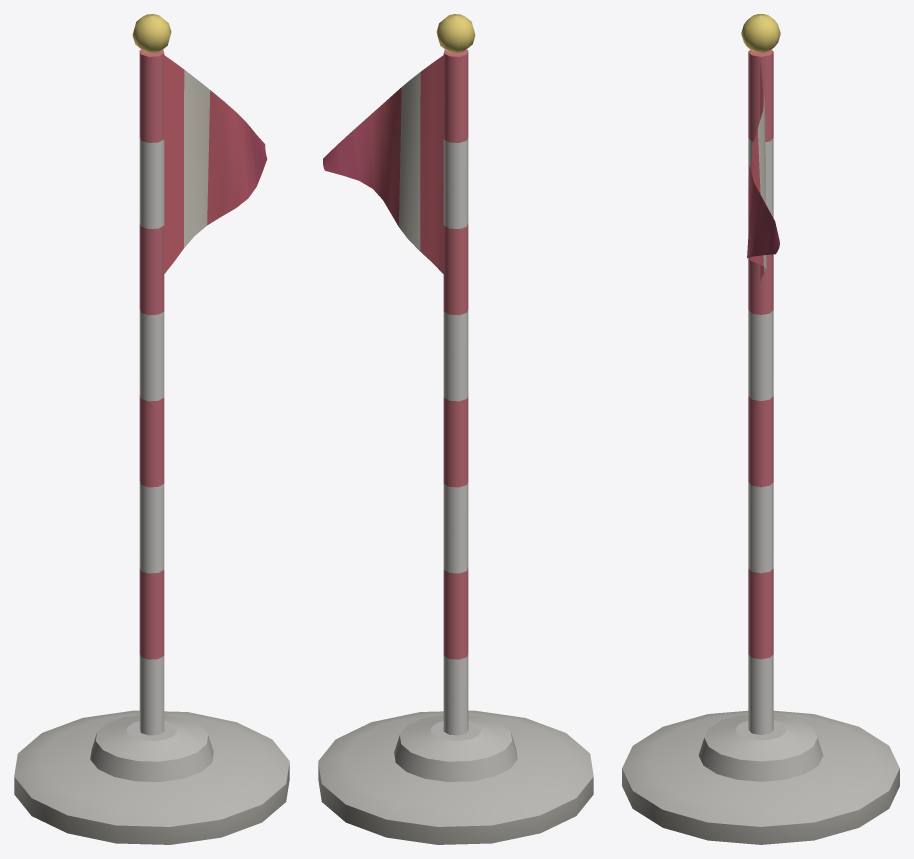
The model's file is flag.glb.
3 views of the same model, side by side, from view 1: azimuth 30°, elevation 25°; view 2: azimuth 150°, elevation 25°; view 3: azimuth 270°, elevation 25° (orthographic).
Visible parts, largest first — view 1: body; view 2: body; view 3: body.
Boxes of the visible parts, x1=… form: body: x1=14, y1=14, x2=289, y2=844; body: x1=318, y1=14, x2=593, y2=844; body: x1=622, y1=14, x2=899, y2=844.
Size of the model in its own units: 0.99 by 3 by 0.98.
